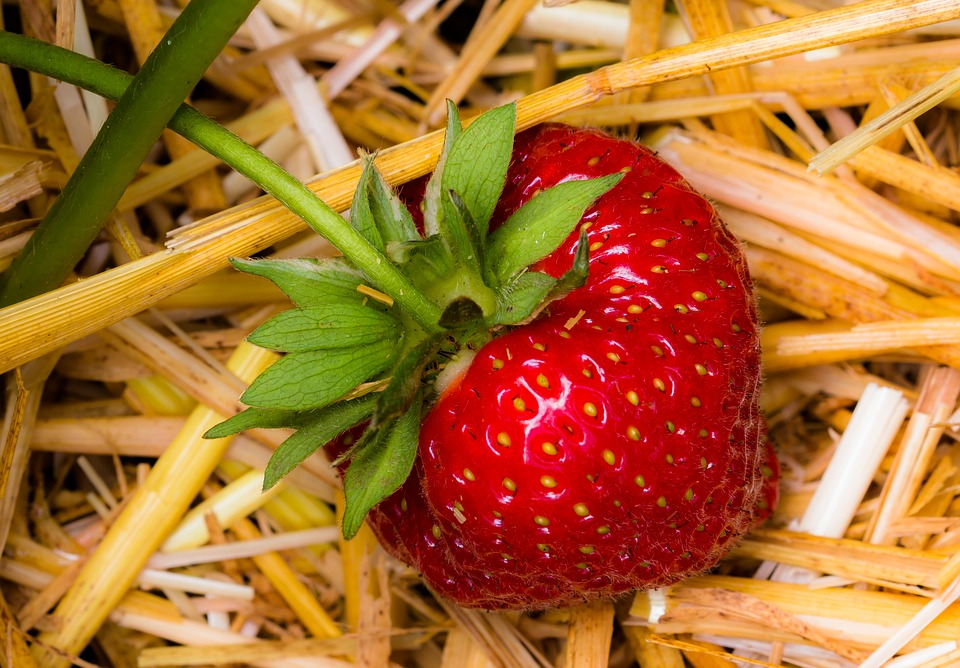ripe_strawberry: (299, 115, 791, 616)
